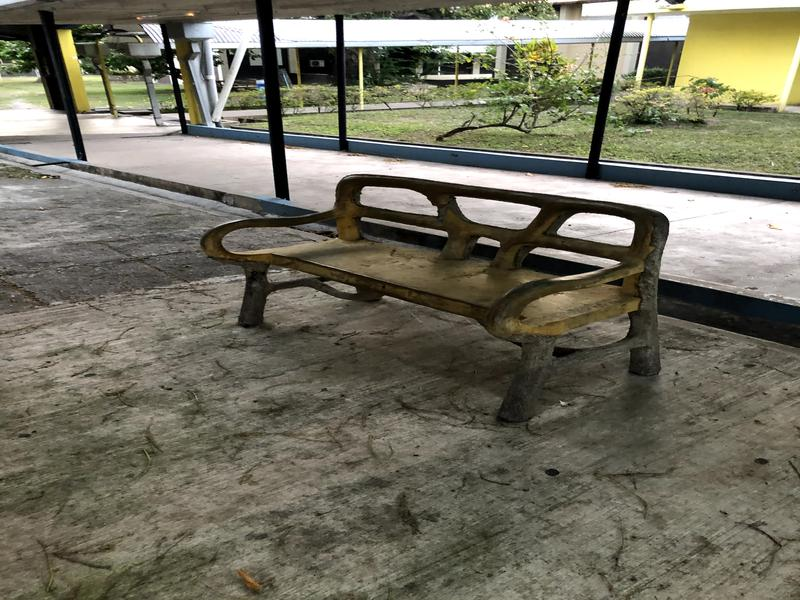18.0050864_-76.7496363_bench: (194, 151, 677, 446)
